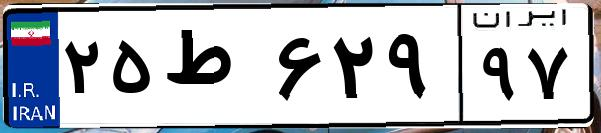2: (330, 28, 385, 110), (57, 26, 110, 100)
5: (110, 28, 158, 98)
6: (270, 28, 330, 110)
7: (525, 38, 570, 115)
9: (385, 28, 445, 110), (475, 38, 525, 113)
ط: (158, 20, 270, 120)
